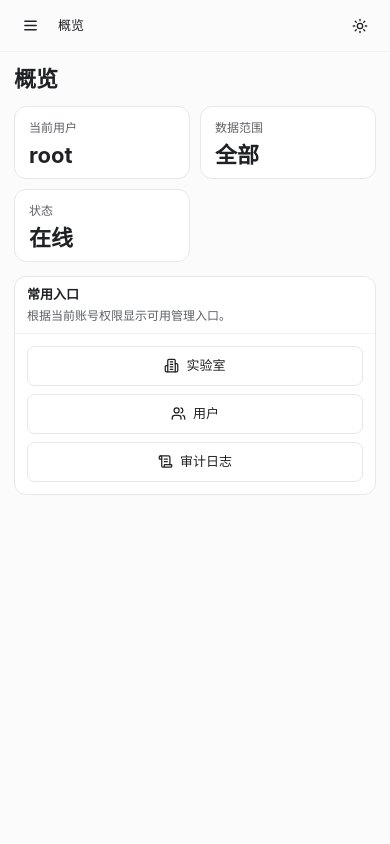
AppShell chrome › opens the mobile navigation drawer
Expected: the heading "概览" is shown, [14,66,58,92]
Click the button named "打开导航" at coordinates (30, 26), box [10,6,50,46]
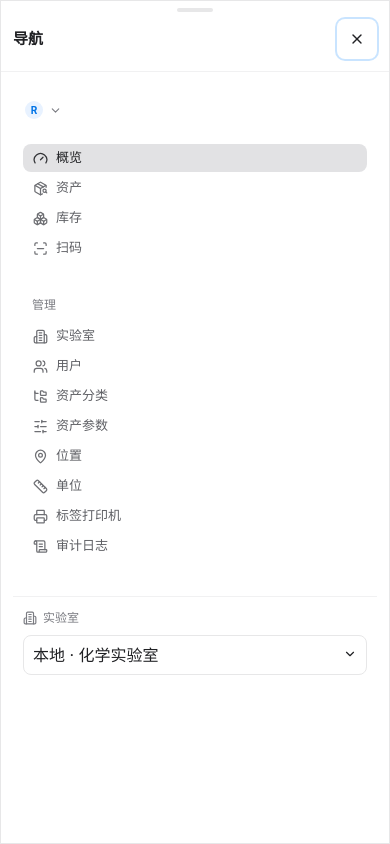
Result: the dialog shows "导航" at [13,29,43,48]
